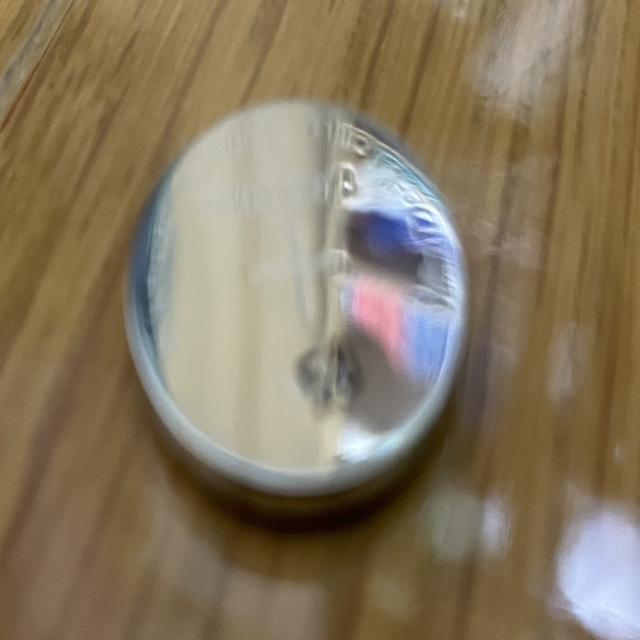COIN: (121, 100, 470, 528)
